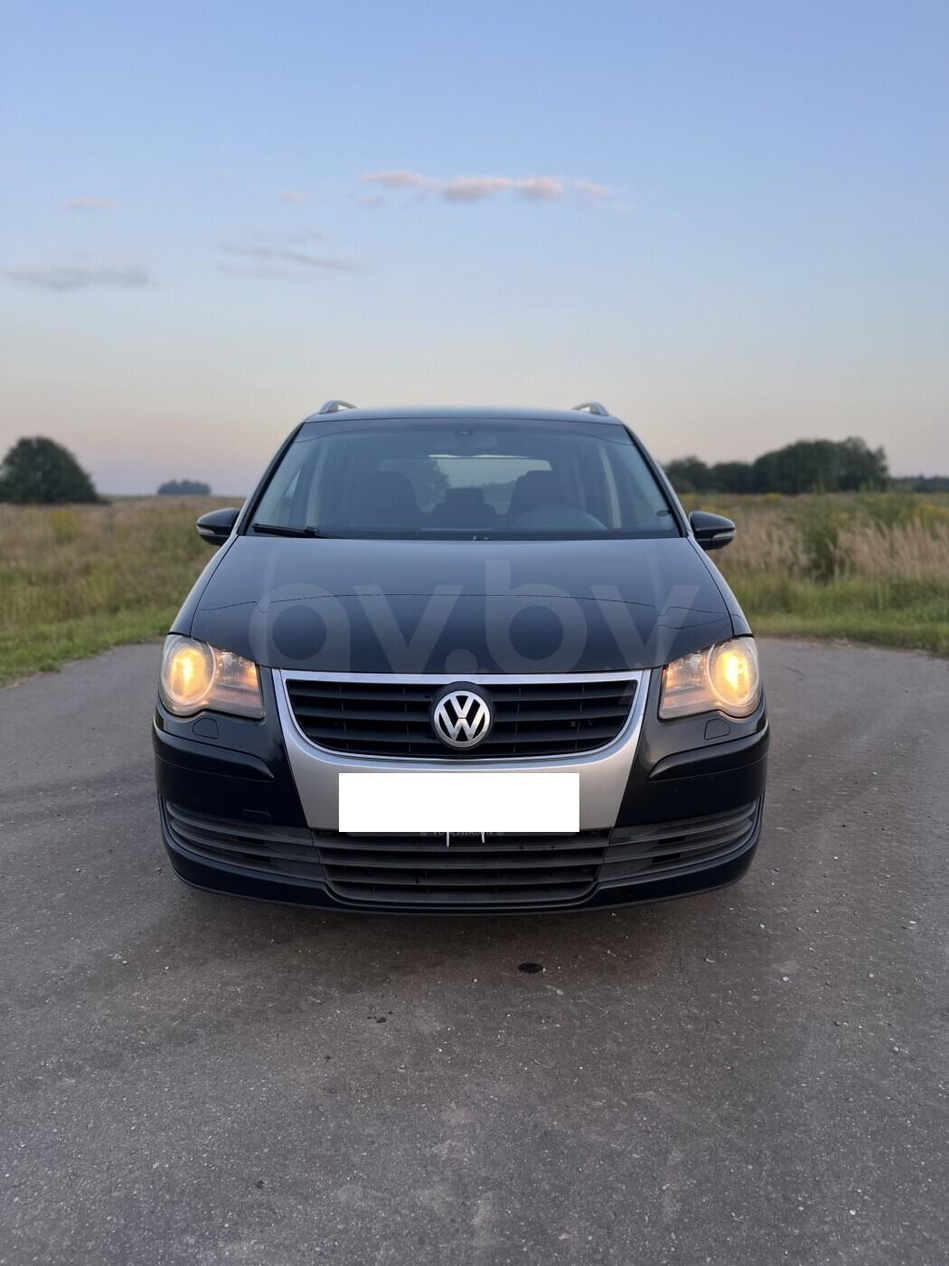Touran_2006-2010: (148, 403, 768, 912)
